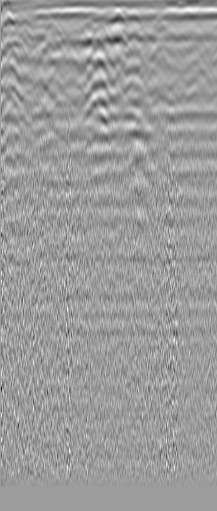오수: (14, 23, 34, 43)
우수: (178, 35, 213, 68)
